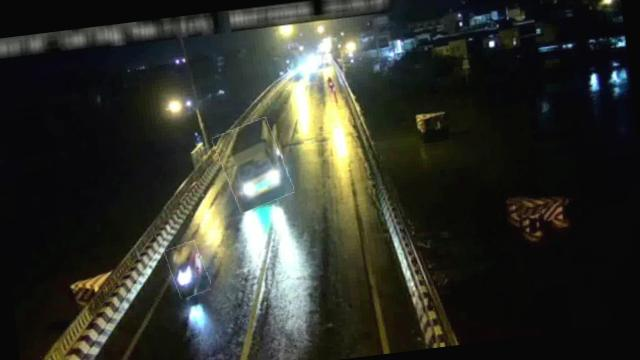Bike: (166, 240, 210, 298), (324, 74, 336, 90)
Truck: (215, 117, 292, 211)
